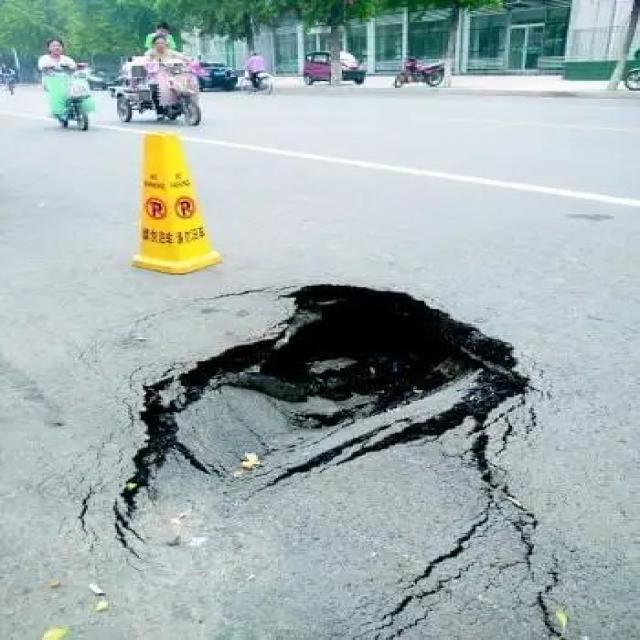Pothole: (106, 283, 539, 569)
